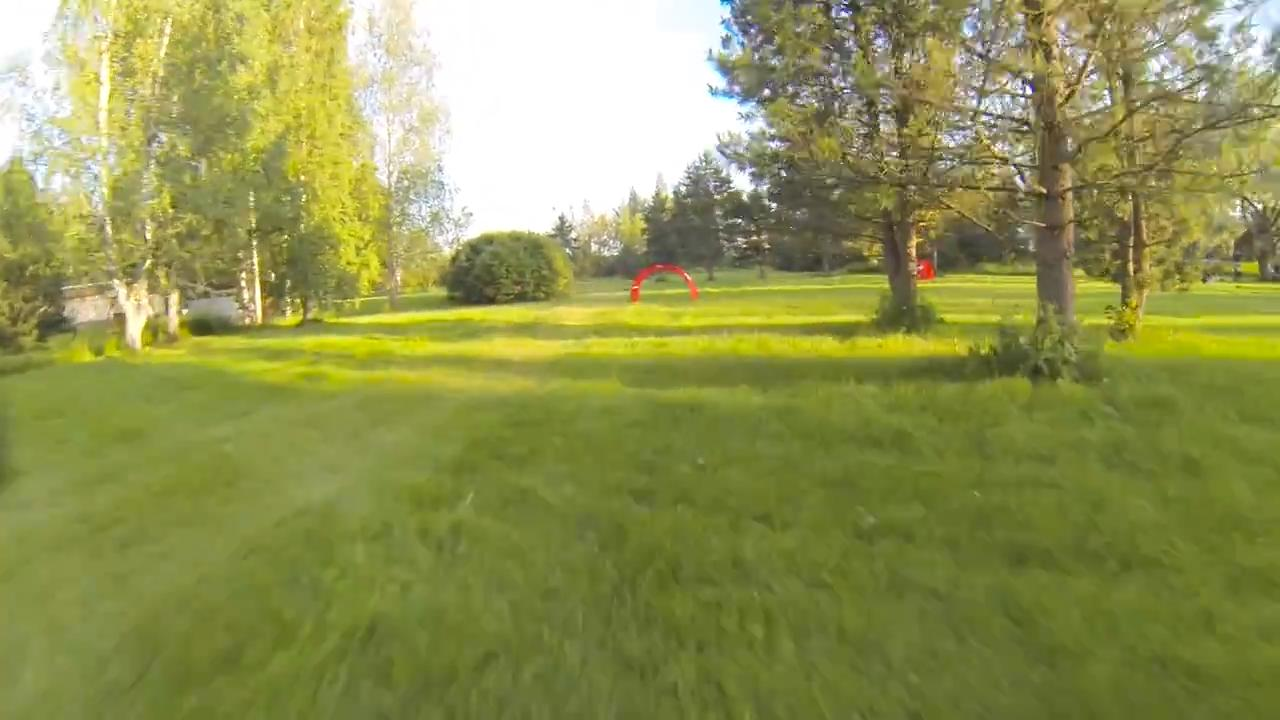gate: (628, 266, 700, 303)
